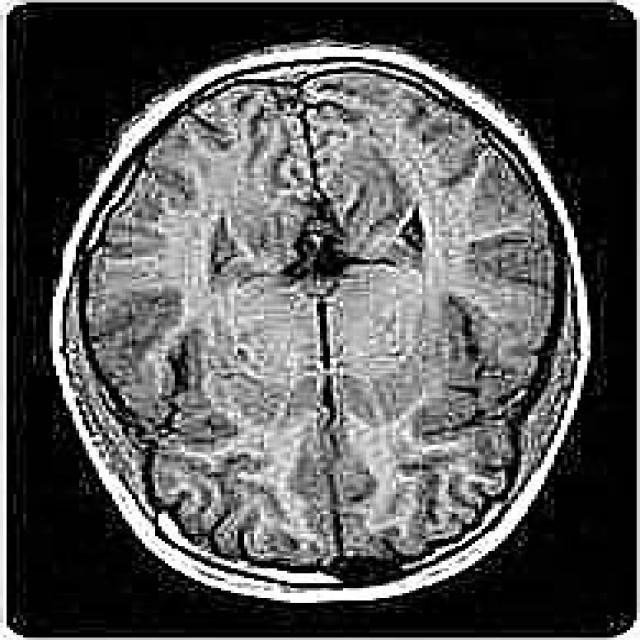notumor: (53, 42, 584, 600)
